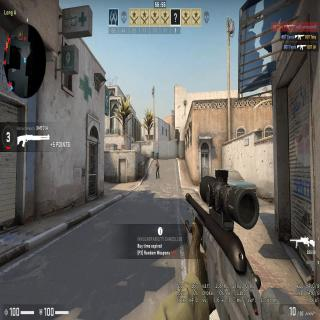T-Body: (155, 160, 159, 177)
T-Head: (156, 160, 158, 163)
